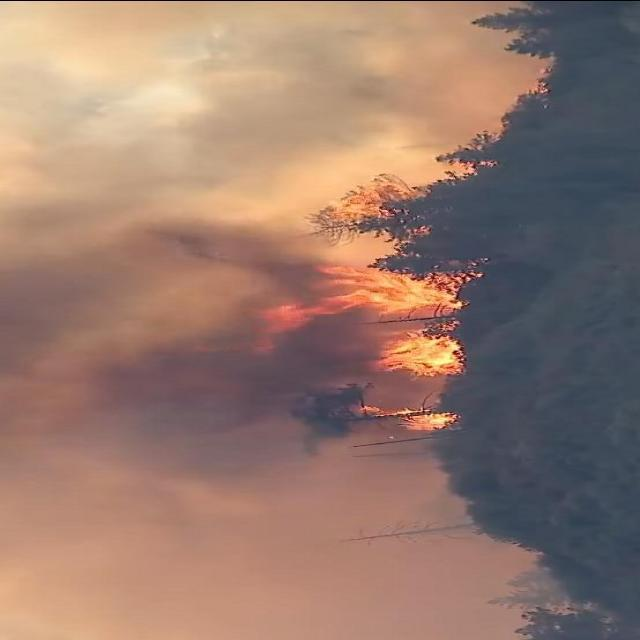Fire: (262, 258, 477, 320), (366, 325, 472, 379), (356, 398, 469, 438)
